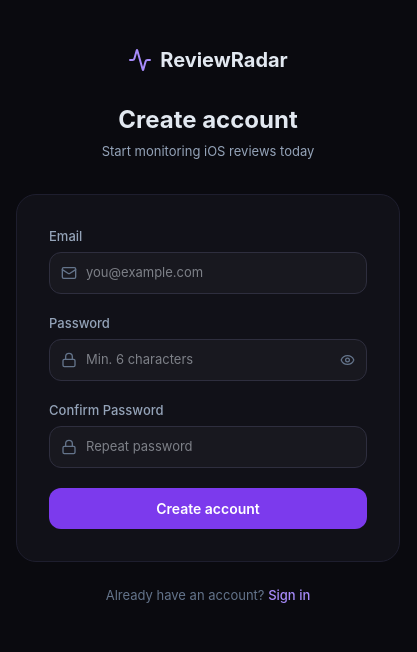
Scenario: Register › validates required email before submitting
Type "secret" into the password field labelled "Password" at (208, 360), box [49,339,367,380]
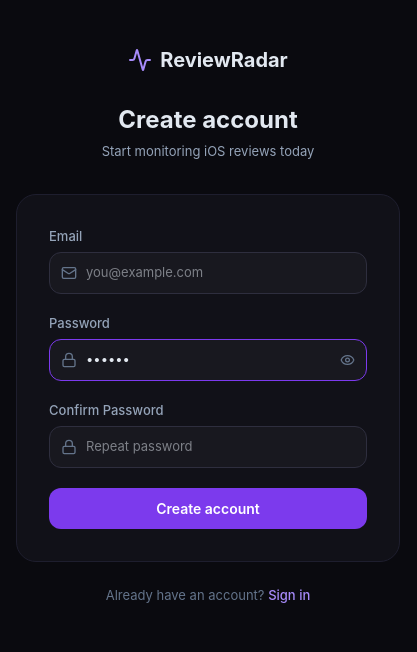
Type "secret" into the password field labelled "Confirm Password" at (208, 447), box [49,426,367,468]
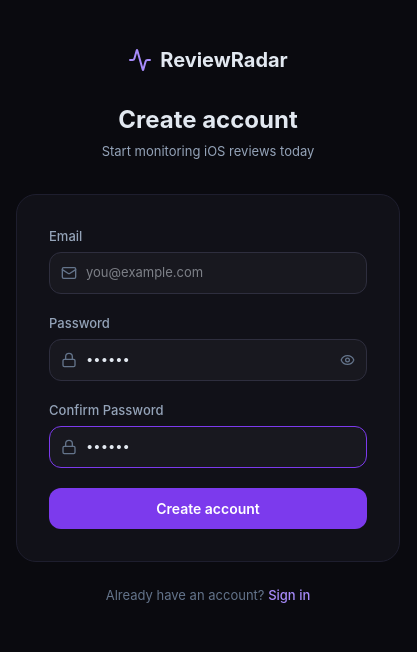
Click the button "Create account" at (208, 508), box [49,488,367,528]
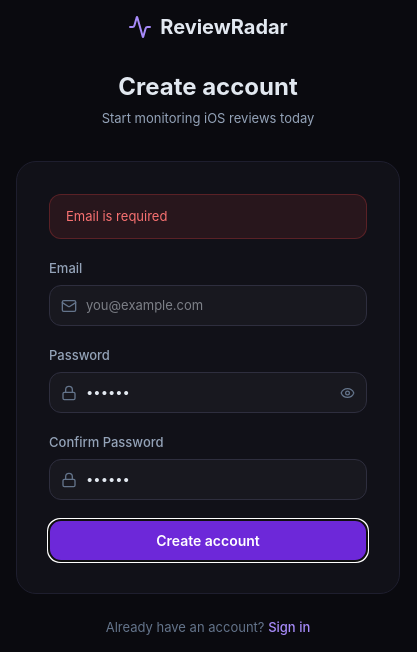
Check: the text "Email is required" is shown, box [49,194,367,239]
